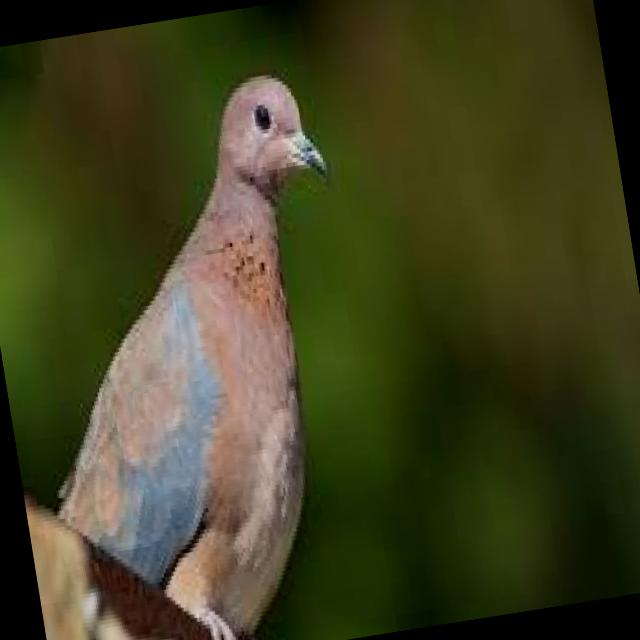bird: (0, 58, 407, 640)
